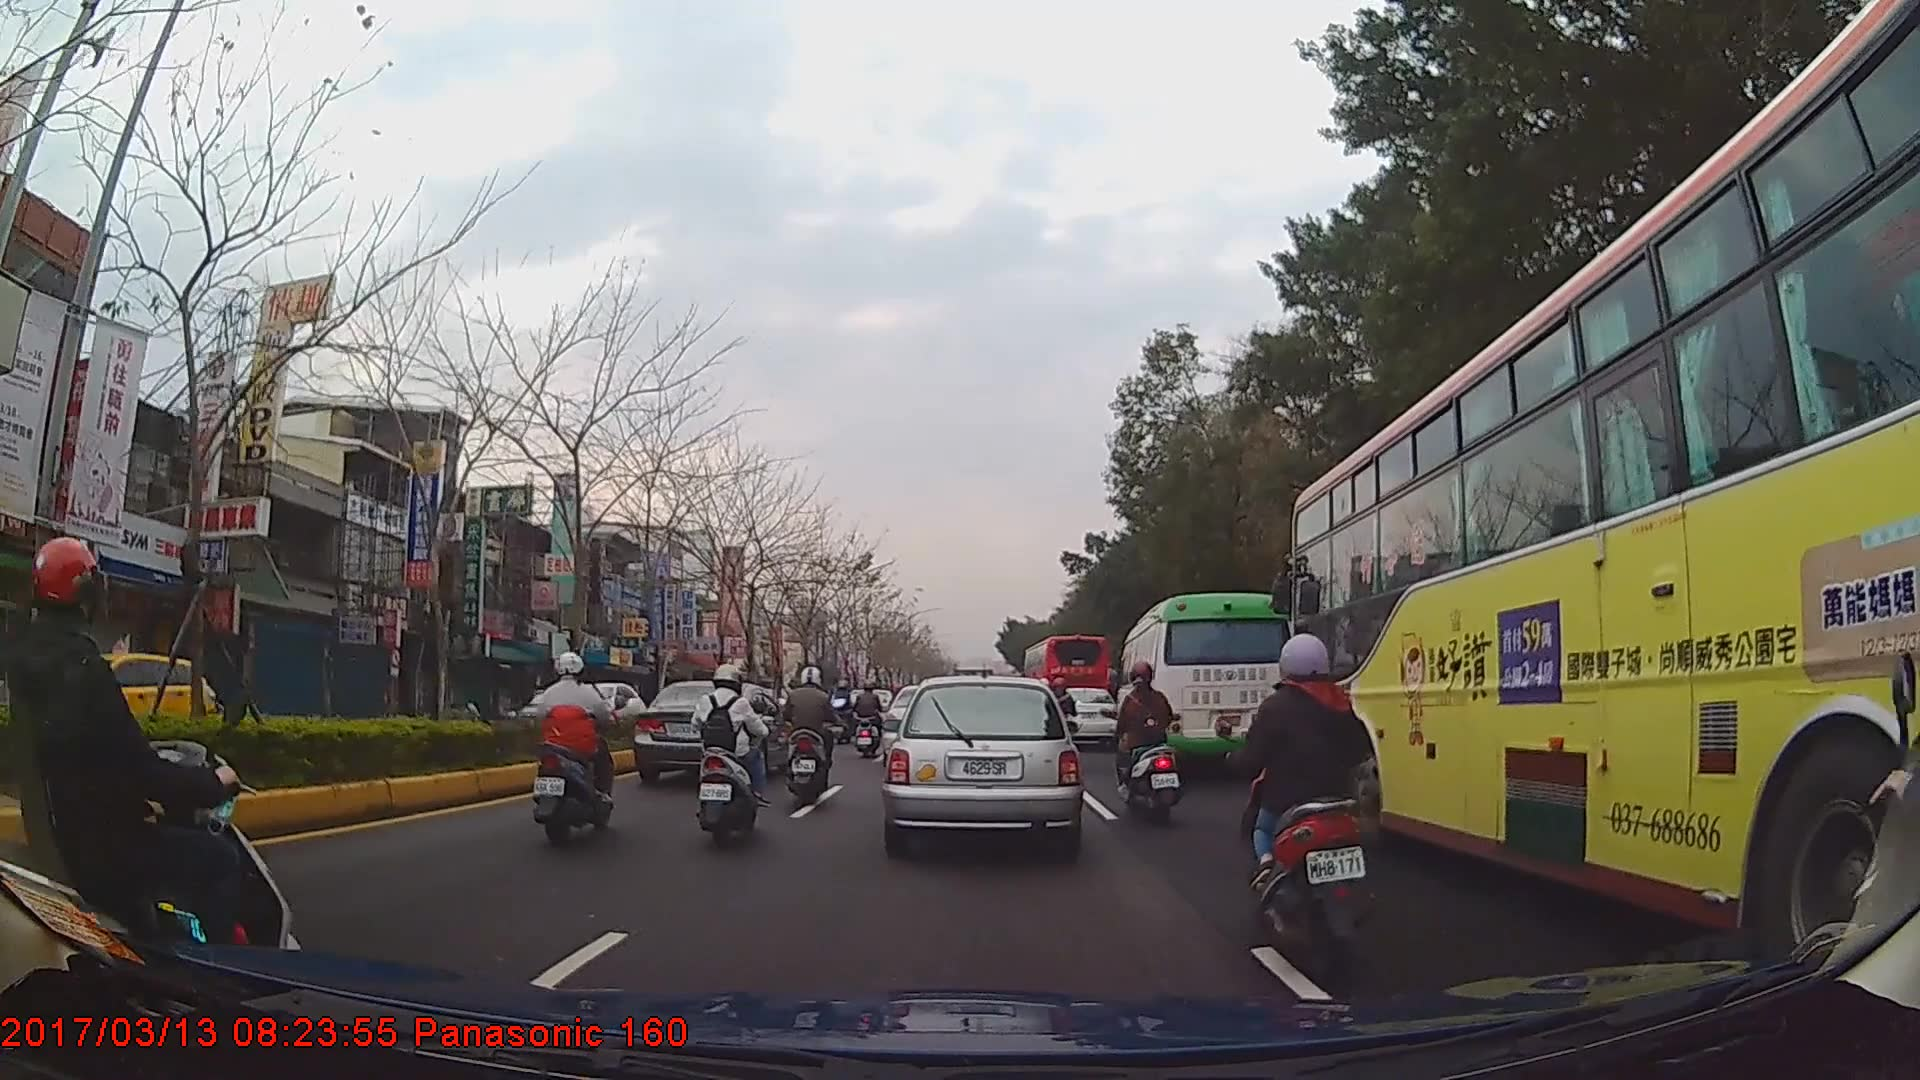rider: (1, 538, 313, 985), (1240, 628, 1375, 974), (537, 650, 619, 846), (689, 662, 767, 849), (1114, 661, 1181, 818), (780, 666, 845, 807), (852, 681, 888, 760), (835, 680, 858, 726)
vehicle: (1286, 0, 1920, 1020), (883, 670, 1083, 853), (1115, 591, 1294, 784), (17, 635, 220, 762), (632, 677, 793, 788), (1021, 632, 1109, 743), (1046, 683, 1120, 747)
